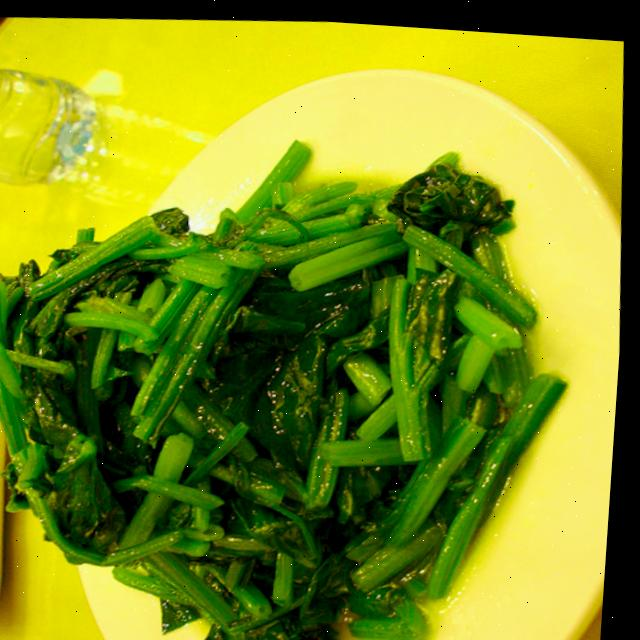蔬菜料理: (0, 76, 636, 640)
